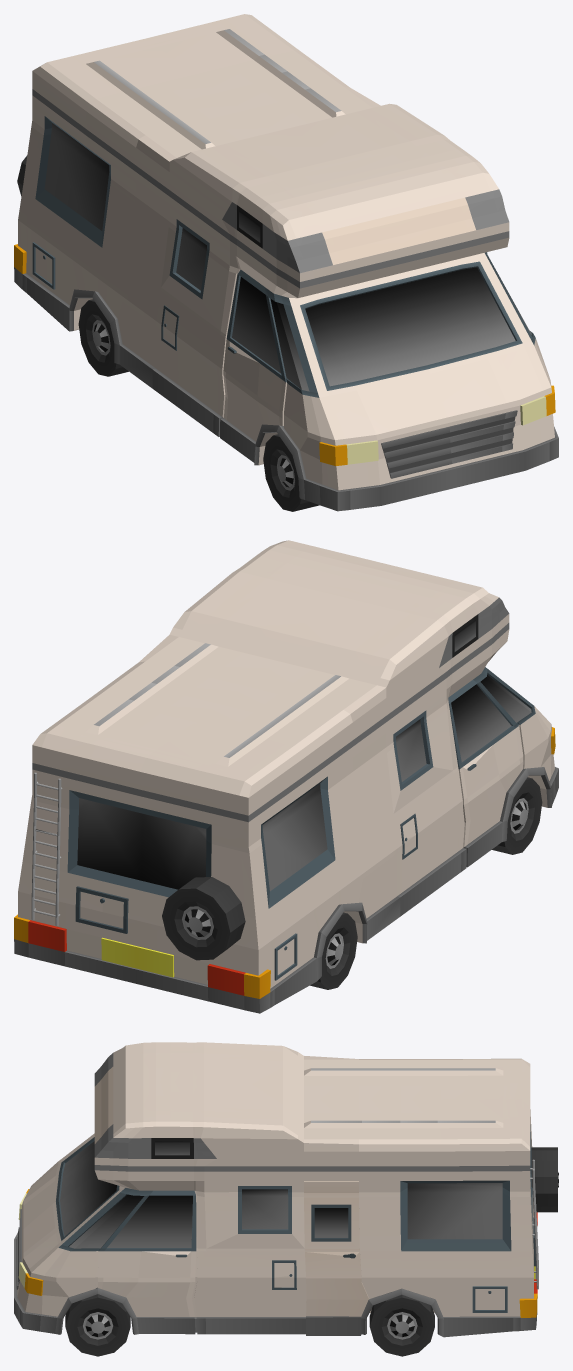
The model's file is motorhome_rv.glb.
The picture shows the model from 3 angles, top to bottom: view 1: azimuth 30°, elevation 25°; view 2: azimuth 150°, elevation 25°; view 3: azimuth 270°, elevation 25°; orthographic projection. The views are drawn at different scales.
Parts seen in each view (by area): view 1: Motorhome_0; view 2: Motorhome_0; view 3: Motorhome_0.
Part boxes in pixels (bbox=[...]): Motorhome_0: bbox=[14, 14, 558, 511]; Motorhome_0: bbox=[14, 540, 558, 1013]; Motorhome_0: bbox=[14, 1042, 558, 1356].
Size of the model in its own units: 2.47 by 2.57 by 5.6.
1 material, 1 textured.
